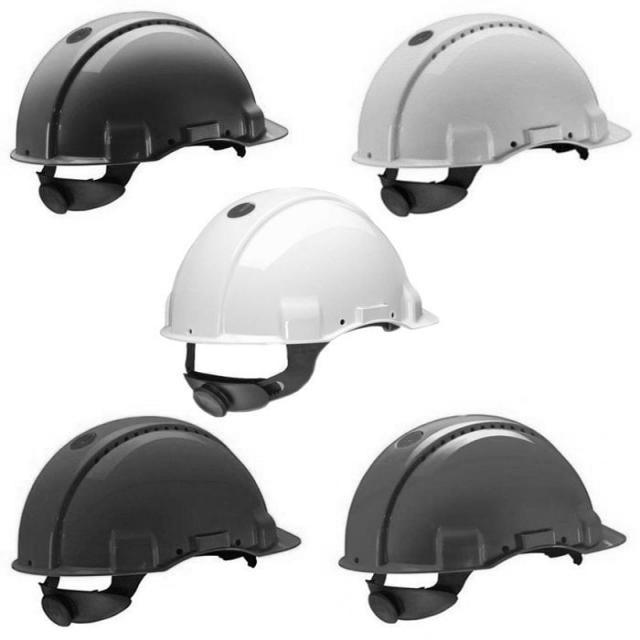construction helmet: (160, 188, 440, 418), (10, 416, 303, 629), (337, 415, 627, 626), (350, 10, 633, 218), (10, 10, 288, 214)
